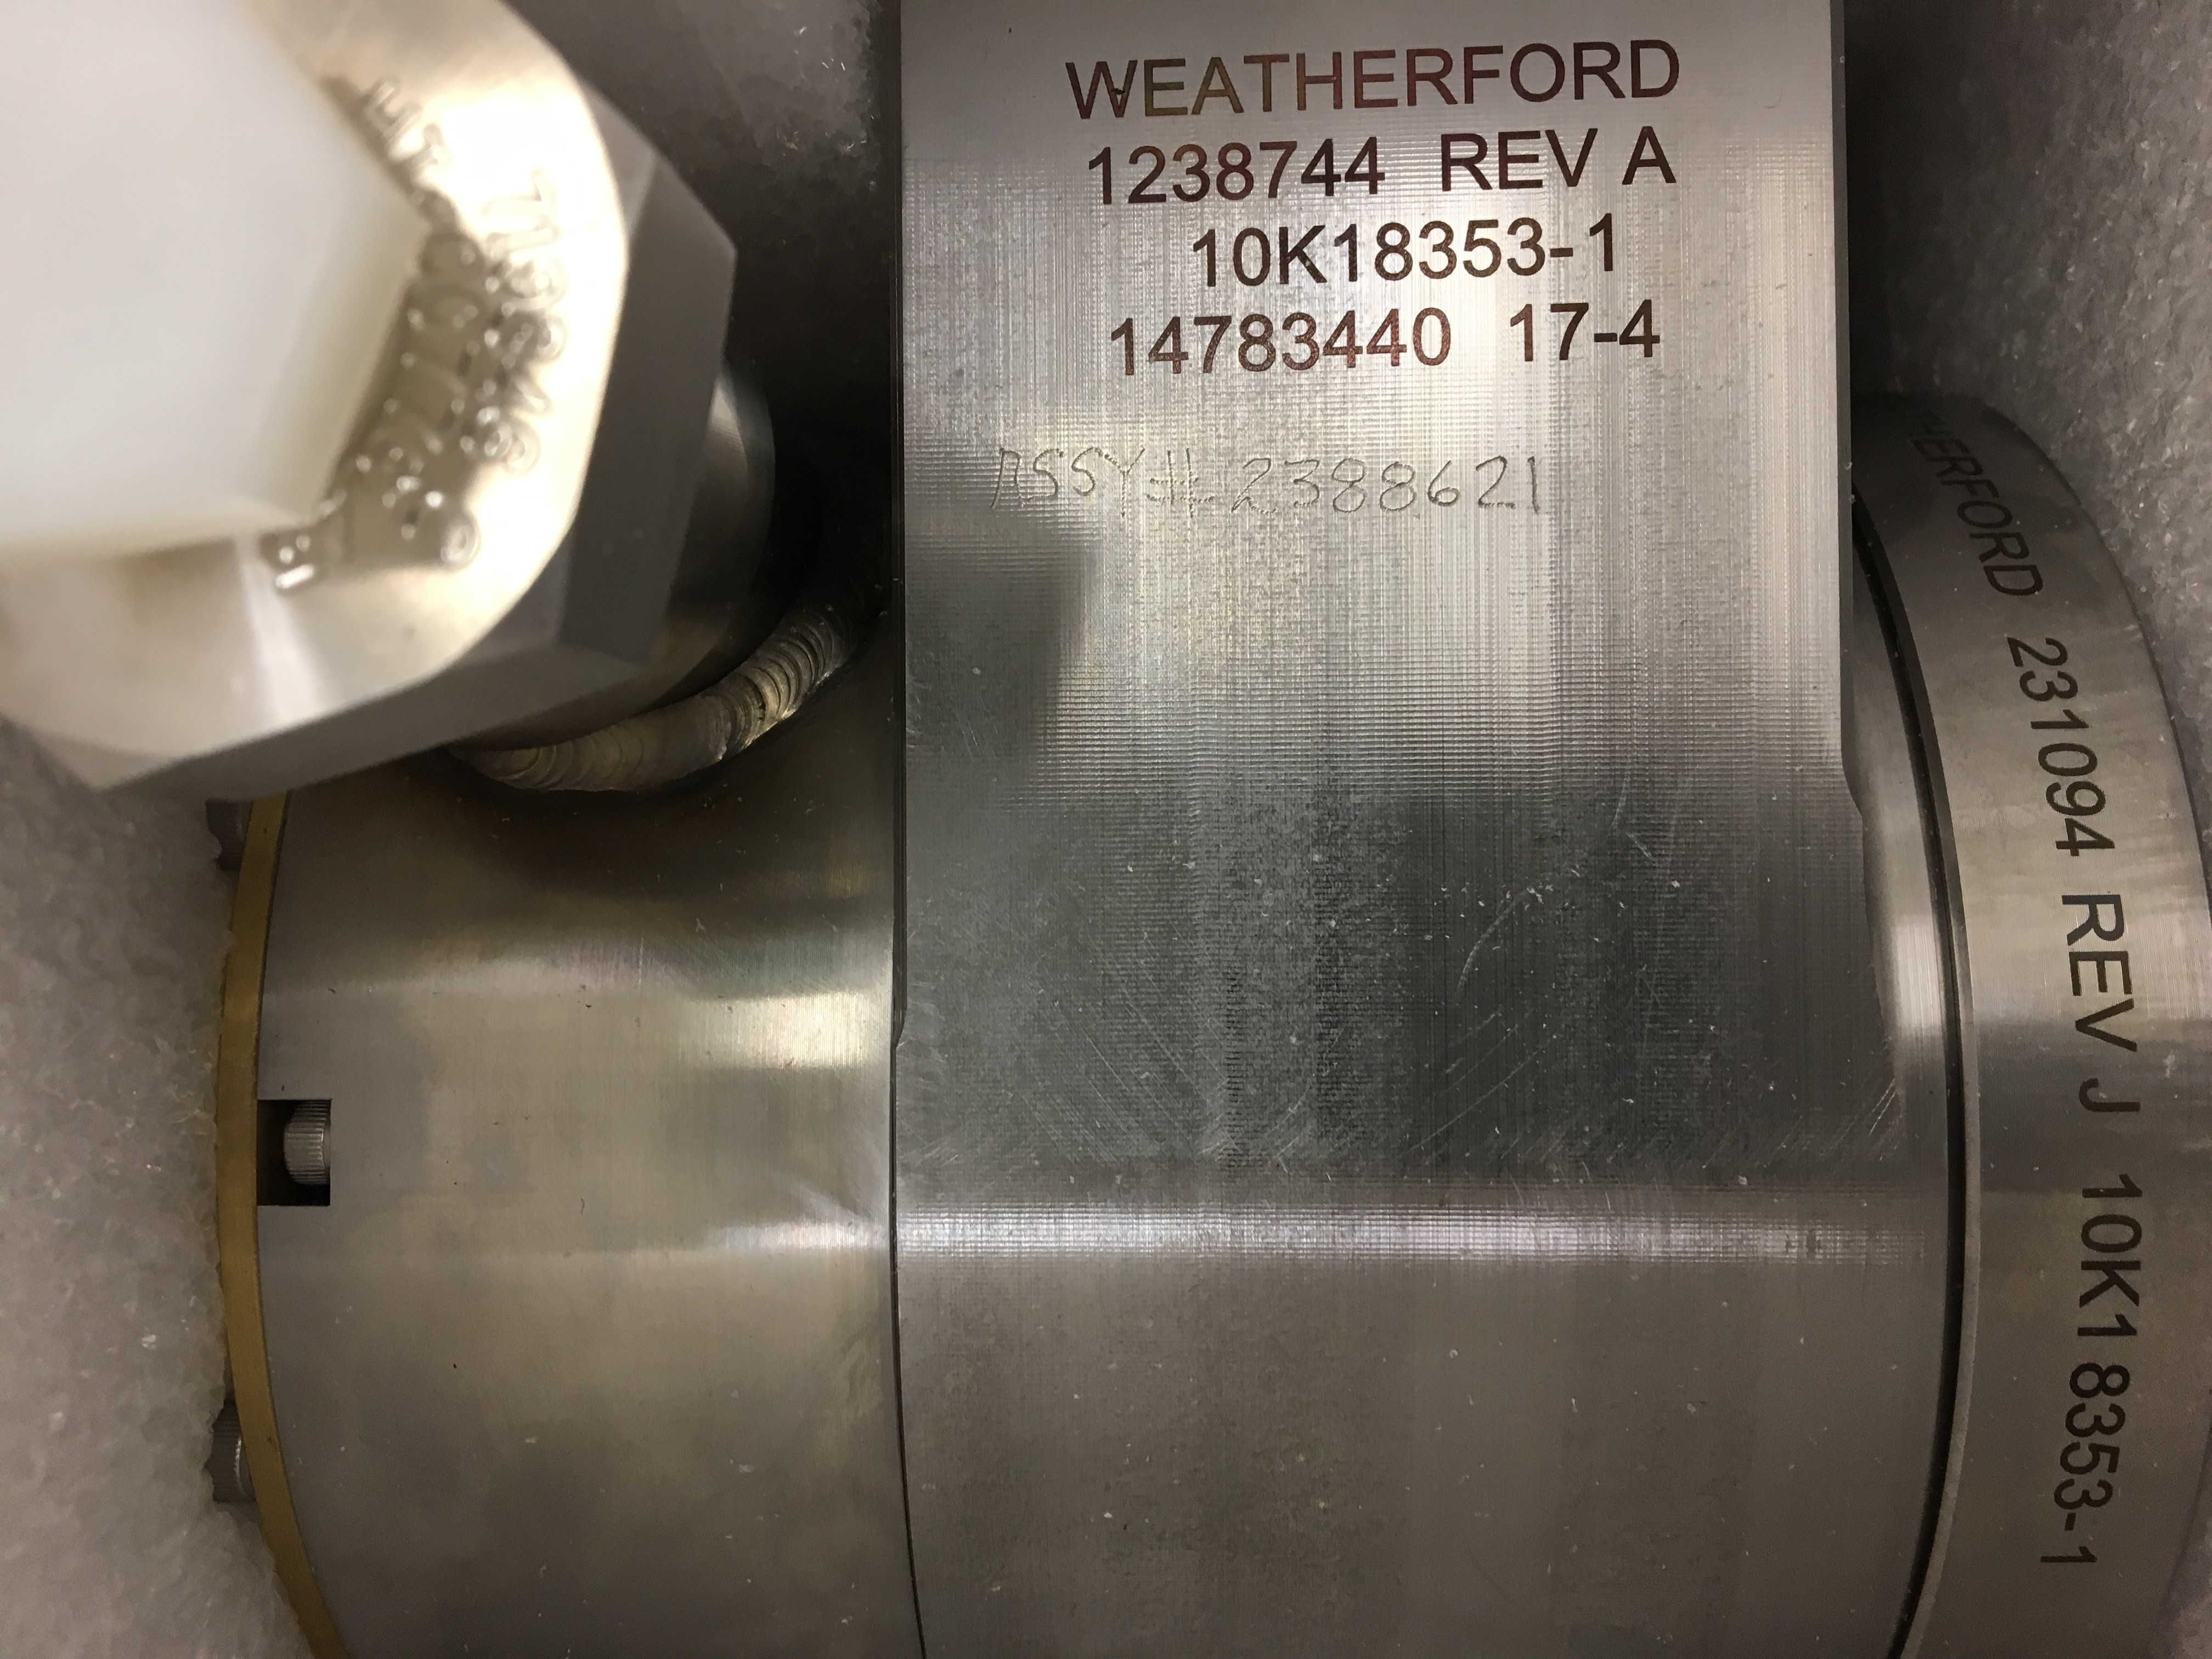character: (1151, 443, 1221, 530), (1615, 117, 1683, 200), (1059, 56, 1141, 124), (1221, 448, 1287, 528), (1400, 38, 1465, 117), (1564, 33, 1629, 110), (1503, 37, 1571, 108), (1322, 444, 1378, 528), (1622, 37, 1689, 105), (1291, 45, 1348, 124), (1137, 49, 1193, 129), (1348, 38, 1400, 124), (974, 441, 1033, 516), (1487, 127, 1550, 197), (1467, 448, 1522, 526), (1188, 49, 1247, 120), (1435, 125, 1493, 199), (1273, 220, 1331, 291), (1278, 450, 1331, 528), (1543, 122, 1599, 195), (1242, 45, 1296, 120), (1143, 307, 1195, 383), (1101, 429, 1151, 507), (1413, 446, 1467, 519), (1581, 204, 1634, 279), (1463, 37, 1512, 117), (1404, 298, 1453, 378), (1120, 141, 1172, 214), (1294, 132, 1345, 207), (1223, 221, 1273, 295), (1360, 301, 1411, 375), (1320, 301, 1367, 380), (1366, 214, 1418, 284), (1078, 139, 1127, 213), (1228, 310, 1278, 380), (1188, 307, 1237, 378), (1547, 298, 1595, 369), (1411, 216, 1461, 284), (1278, 308, 1327, 378), (1620, 291, 1665, 366), (1501, 213, 1548, 284), (1024, 444, 1071, 514), (1343, 132, 1392, 199), (1211, 138, 1258, 206), (1181, 221, 1224, 295), (1165, 141, 1214, 206), (1458, 216, 1505, 282), (1061, 443, 1111, 504), (1374, 455, 1420, 519), (1256, 136, 1298, 204), (1500, 300, 1540, 369), (1543, 213, 1585, 279), (1331, 214, 1367, 286), (1108, 307, 1143, 378), (1588, 298, 1622, 364), (1519, 441, 1545, 525)
